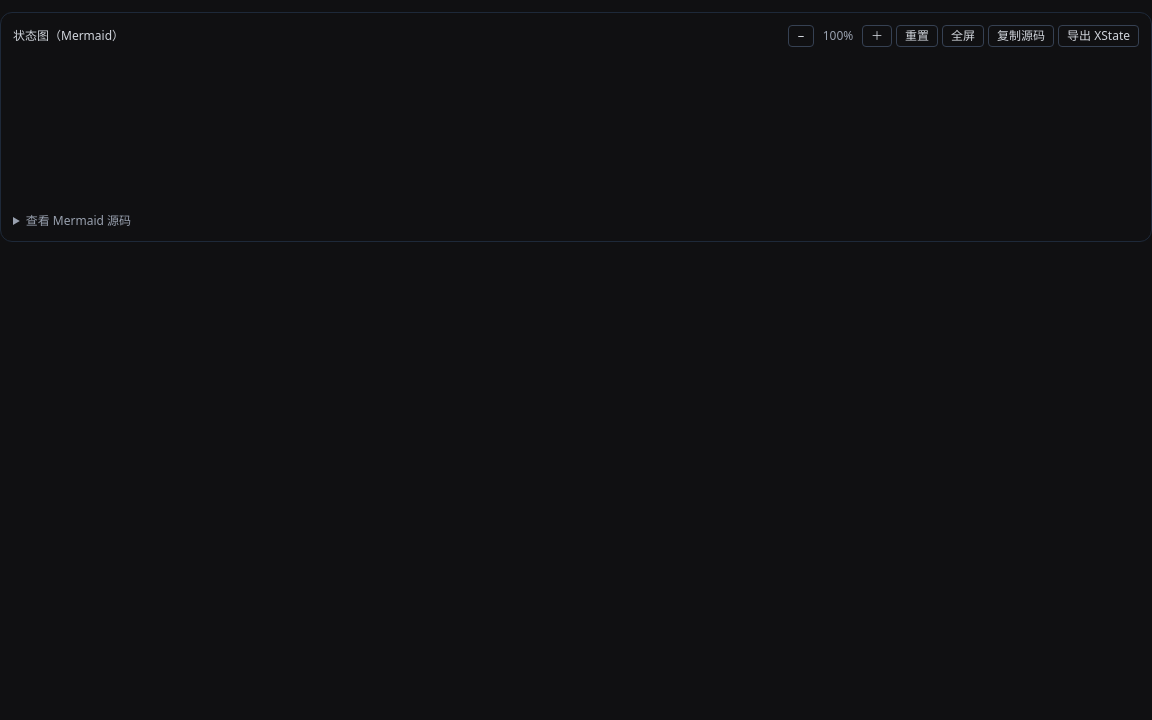
MermaidViewer 多实例挂载（回归：跨实例 id 必须唯一） › 状态图点击『导出 XState』打开弹窗，展示机器 JSON
The image size is (1152, 720).
Click the button "导出 XState" at (1099, 36), box [1058, 25, 1139, 47]
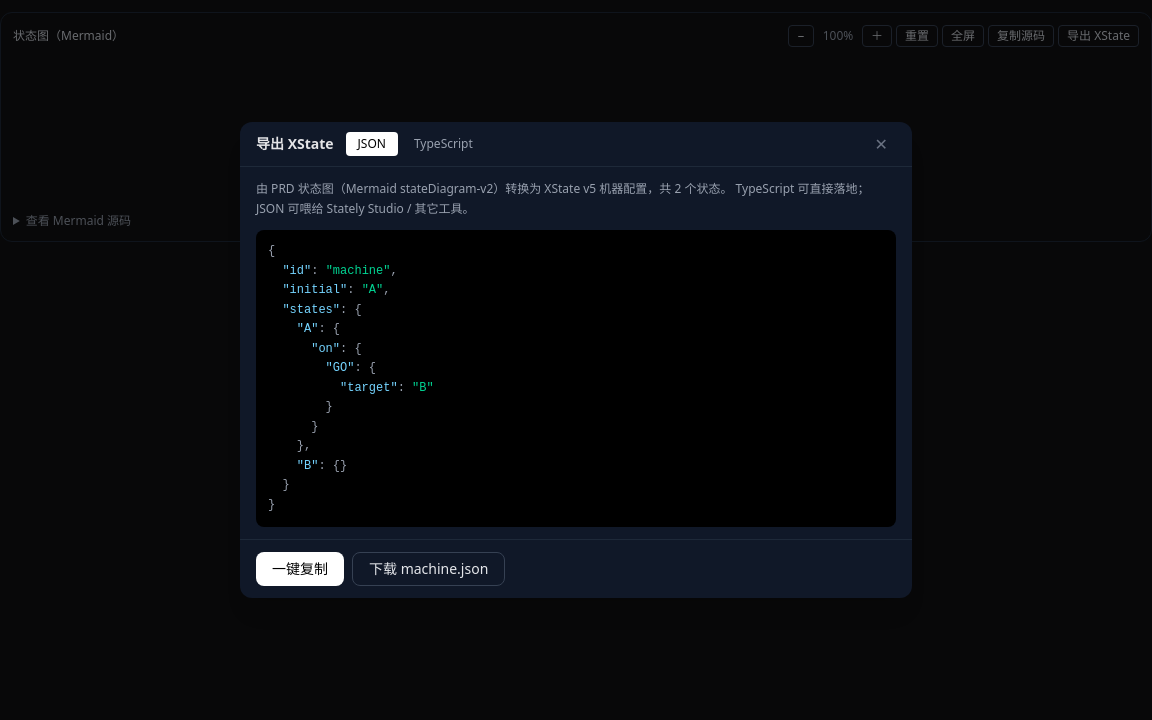
Result: the dialog is shown
Result: the dialog shows "\"initial\"" at [282, 283, 347, 297]
Result: the dialog shows "\"GO\"" at [326, 361, 354, 375]
